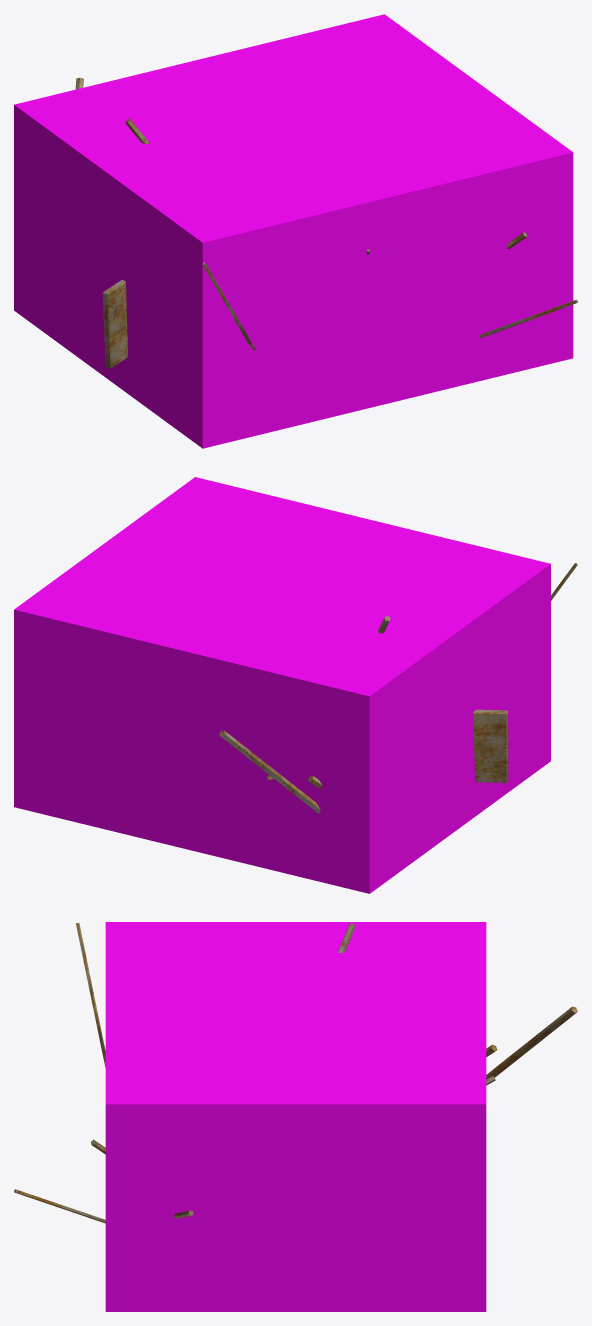
File: prop_scrap_rebar.glb
The picture shows the model from 3 angles, top to bottom: view 1: azimuth 30°, elevation 25°; view 2: azimuth 150°, elevation 25°; view 3: azimuth 270°, elevation 25°; orthographic projection. The views are drawn at different scales.
Visible parts, largest first — view 1: prop_scrap_rebar-col, Scrap; view 2: prop_scrap_rebar-col, Scrap; view 3: prop_scrap_rebar-col, Scrap.
Boxes of the visible parts, x1,y1,x2,y2 form: prop_scrap_rebar-col: [14, 14, 573, 448]; Scrap: [75, 77, 577, 368]; prop_scrap_rebar-col: [14, 477, 550, 893]; Scrap: [219, 563, 577, 813]; prop_scrap_rebar-col: [105, 922, 486, 1311]; Scrap: [14, 923, 577, 1223].
Bounding box in the file's own units: 1.64 × 0.8411 × 1.86.
Materials: 2 (1 with a texture image).
